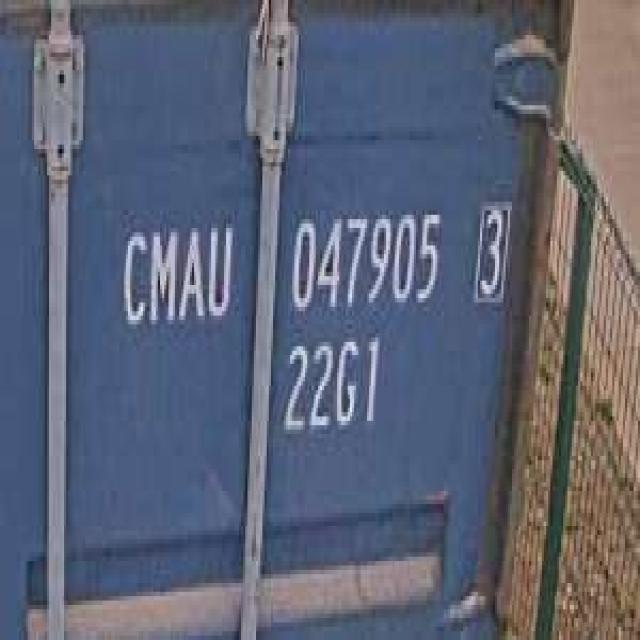dv: (467, 189, 512, 311)
owner: (115, 206, 237, 338)
serial: (284, 197, 446, 320)
size: (277, 329, 384, 443)
